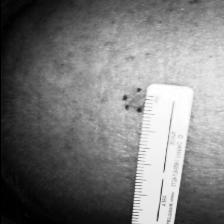Potentially Malignant Skin Tumors: (128, 95, 144, 108)
